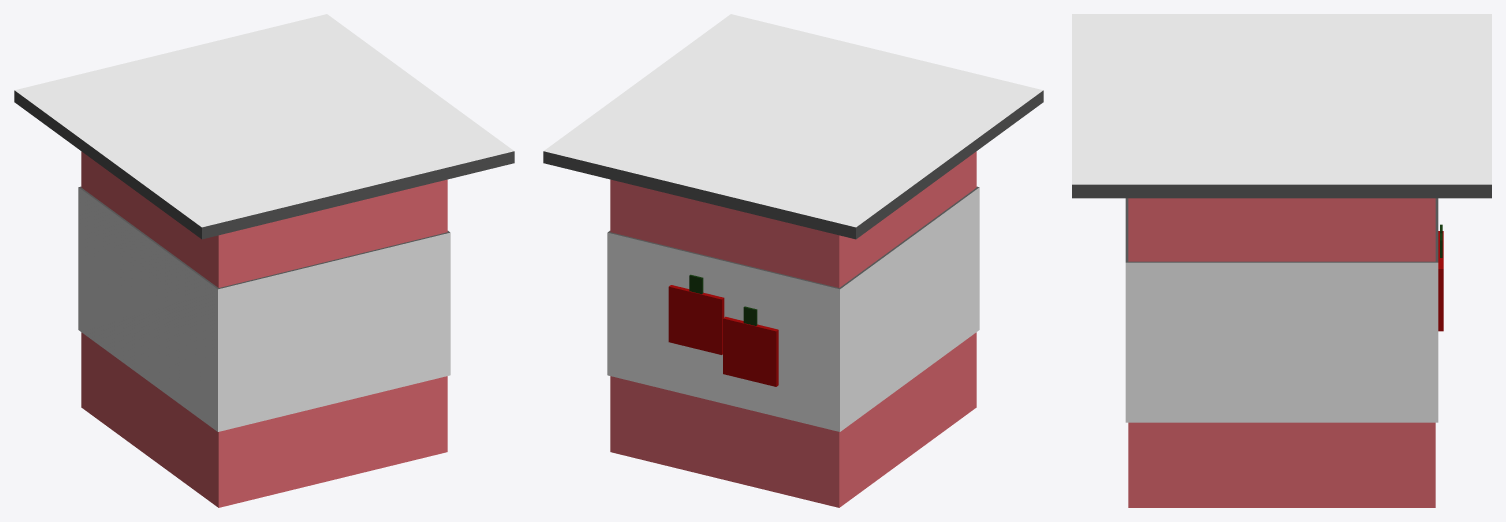
Rendered from Yoghurt(1).FBX.
3 views of the same model, side by side, from view 1: azimuth 30°, elevation 25°; view 2: azimuth 150°, elevation 25°; view 3: azimuth 270°, elevation 25° (orthographic). The views are drawn at different scales.
Visible parts, largest first — view 1: Box013; view 2: Box013; view 3: Box013.
Boxes of the visible parts, x1=… form: Box013: x1=14, y1=14, x2=514, y2=507; Box013: x1=543, y1=14, x2=1043, y2=507; Box013: x1=1072, y1=14, x2=1491, y2=507.
Bounding box in the file's own units: 39.08 × 36.92 × 40.58.
